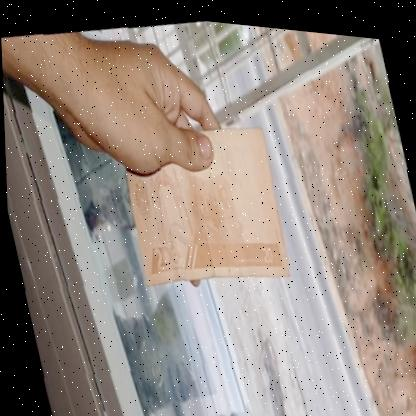twenty-back-vef: (110, 106, 294, 298)
